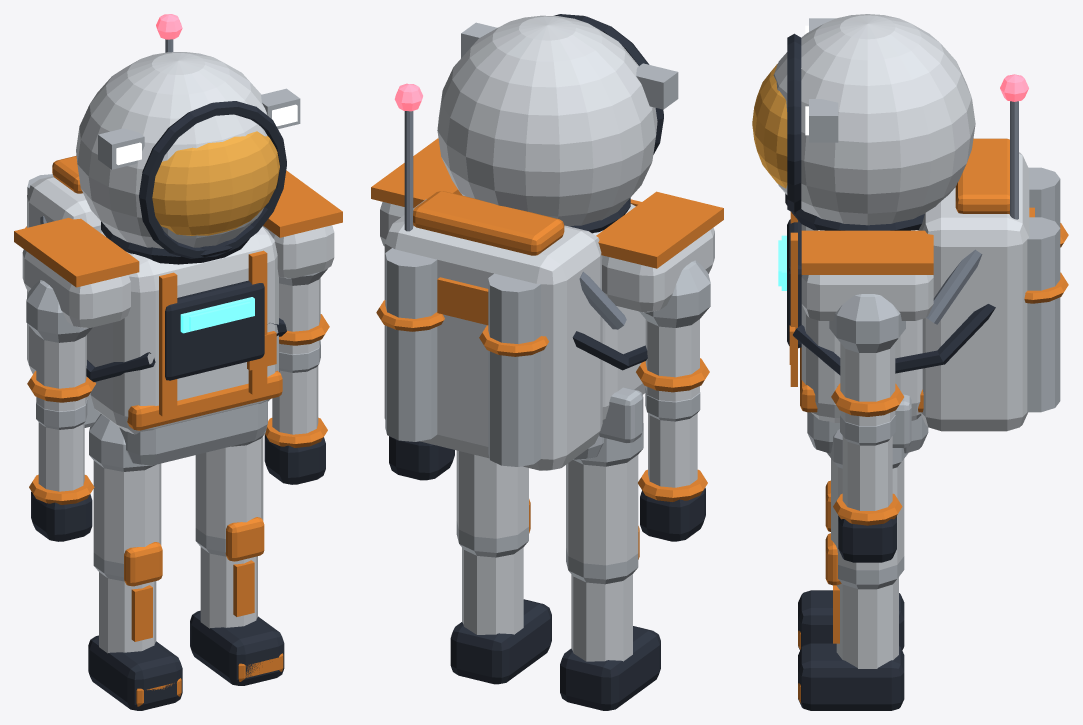
The model's file is astronaut.glb.
3 renders of one model, left to right at view 1: azimuth 30°, elevation 25°; view 2: azimuth 150°, elevation 25°; view 3: azimuth 270°, elevation 25°, orthographic. The views are drawn at different scales.
Parts seen in each view (by area): view 1: TorsoMesh, LegL_Mesh, LegR_Mesh, ArmL_Mesh, ArmR_Mesh, ChestLight, AntennaLight; view 2: TorsoMesh, LegL_Mesh, LegR_Mesh, ArmL_Mesh, ArmR_Mesh, AntennaLight; view 3: TorsoMesh, LegR_Mesh, ArmR_Mesh, LegL_Mesh, AntennaLight.
Part boxes in pixels (x1,y1,x2,y2): TorsoMesh: (14,39,342,465); LegL_Mesh: (88,414,182,710); LegR_Mesh: (190,402,284,685); ArmL_Mesh: (27,334,95,541); ArmR_Mesh: (264,278,329,484); ChestLight: (189,302,250,331); AntennaLight: (156,14,182,39); TorsoMesh: (371,14,723,470); LegL_Mesh: (560,423,660,710); LegR_Mesh: (450,450,551,684); ArmL_Mesh: (636,319,709,541); ArmR_Mesh: (389,436,454,480); AntennaLight: (394,83,422,111); TorsoMesh: (752,14,1068,453); LegR_Mesh: (798,429,908,710); ArmR_Mesh: (831,342,903,562); LegL_Mesh: (798,480,904,650); AntennaLight: (1000,74,1028,101).
Bounding box in the file's own units: 0.98 × 1.96 × 0.863.
